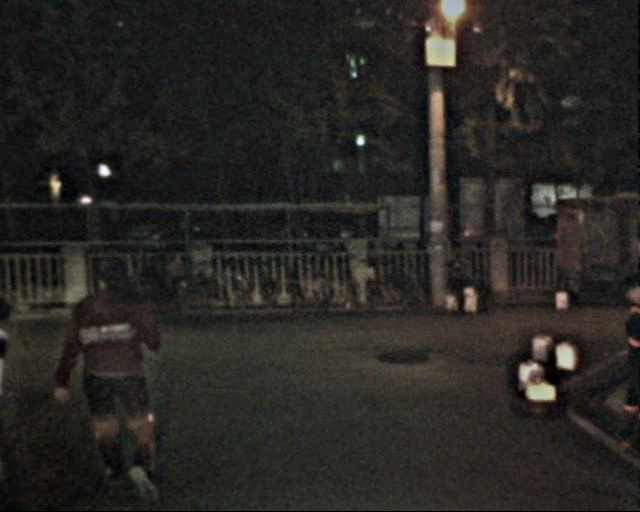person: (73, 243, 173, 500), (1, 283, 38, 494)
